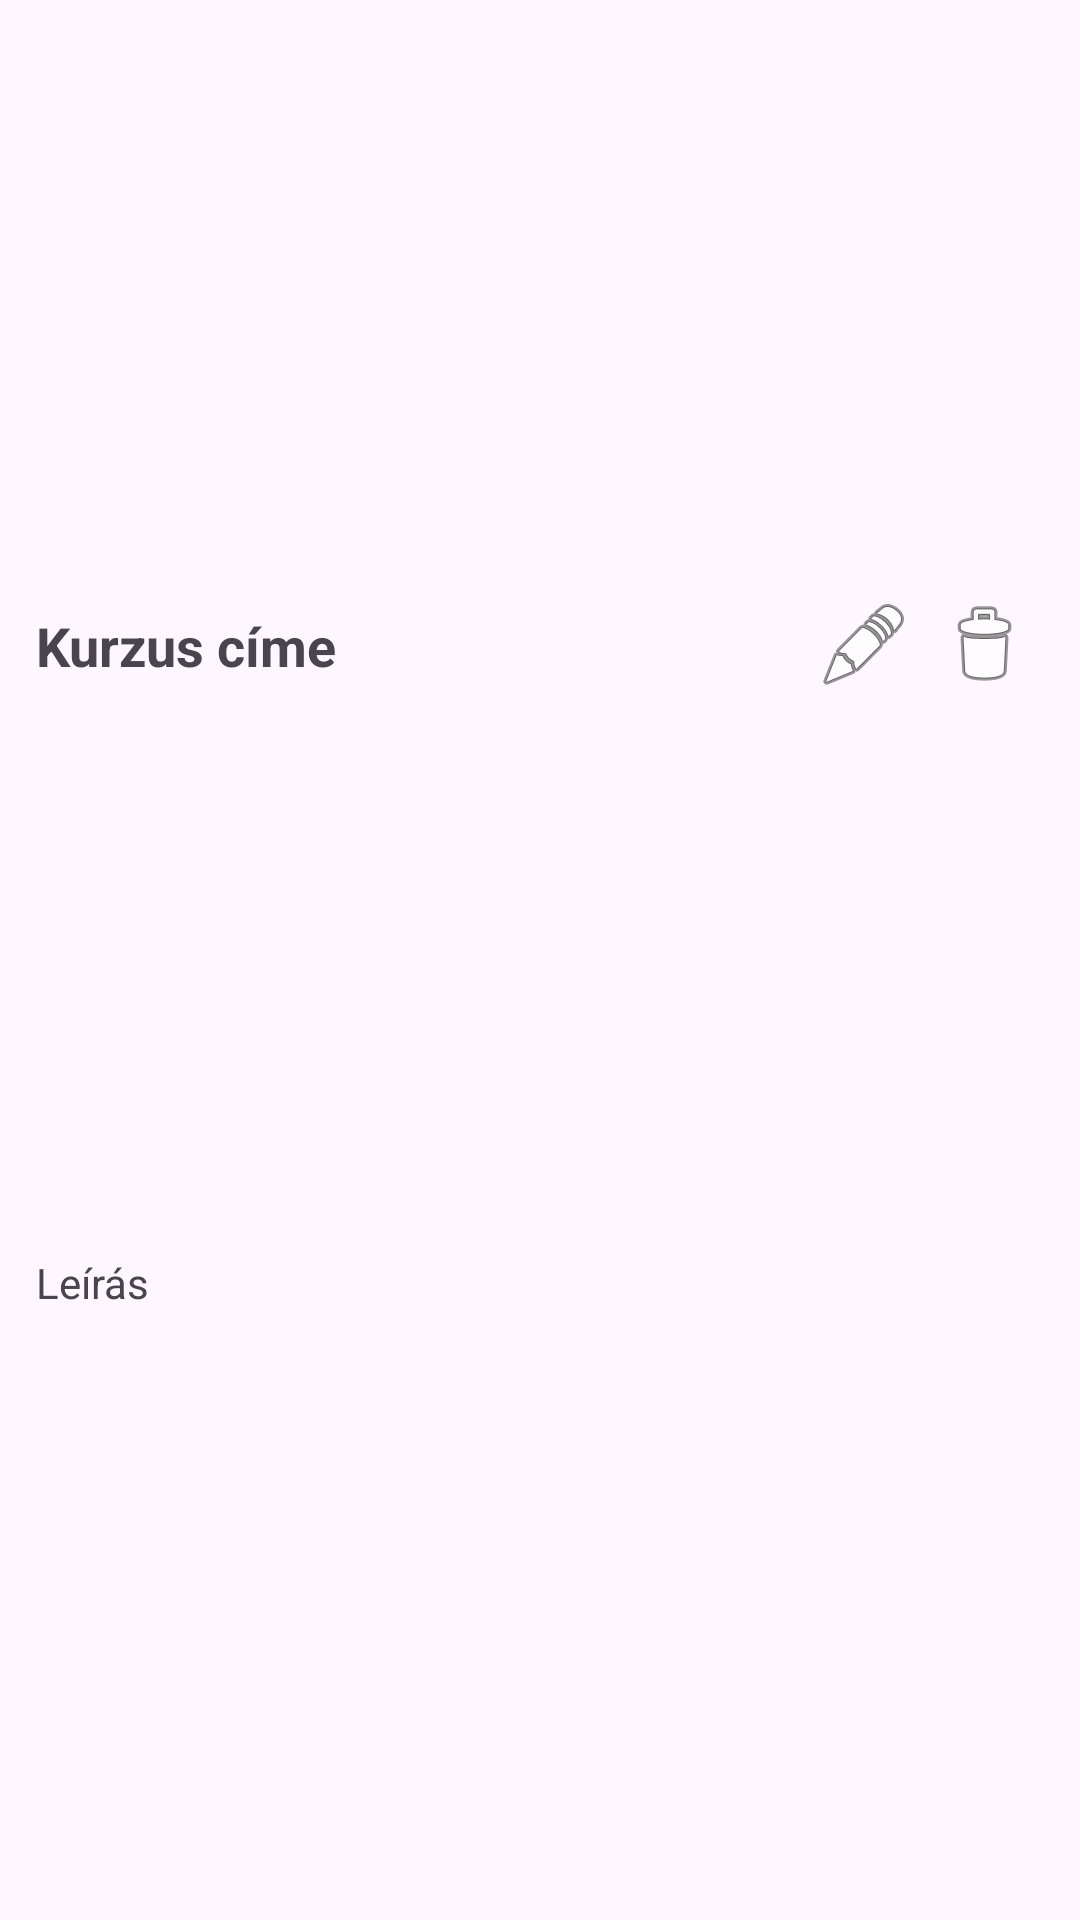

Point at icon controls on the screen. Image size 1080*1920, points as (x,y).
Szerkesztés: (863,644)
Törlés: (984,643)
